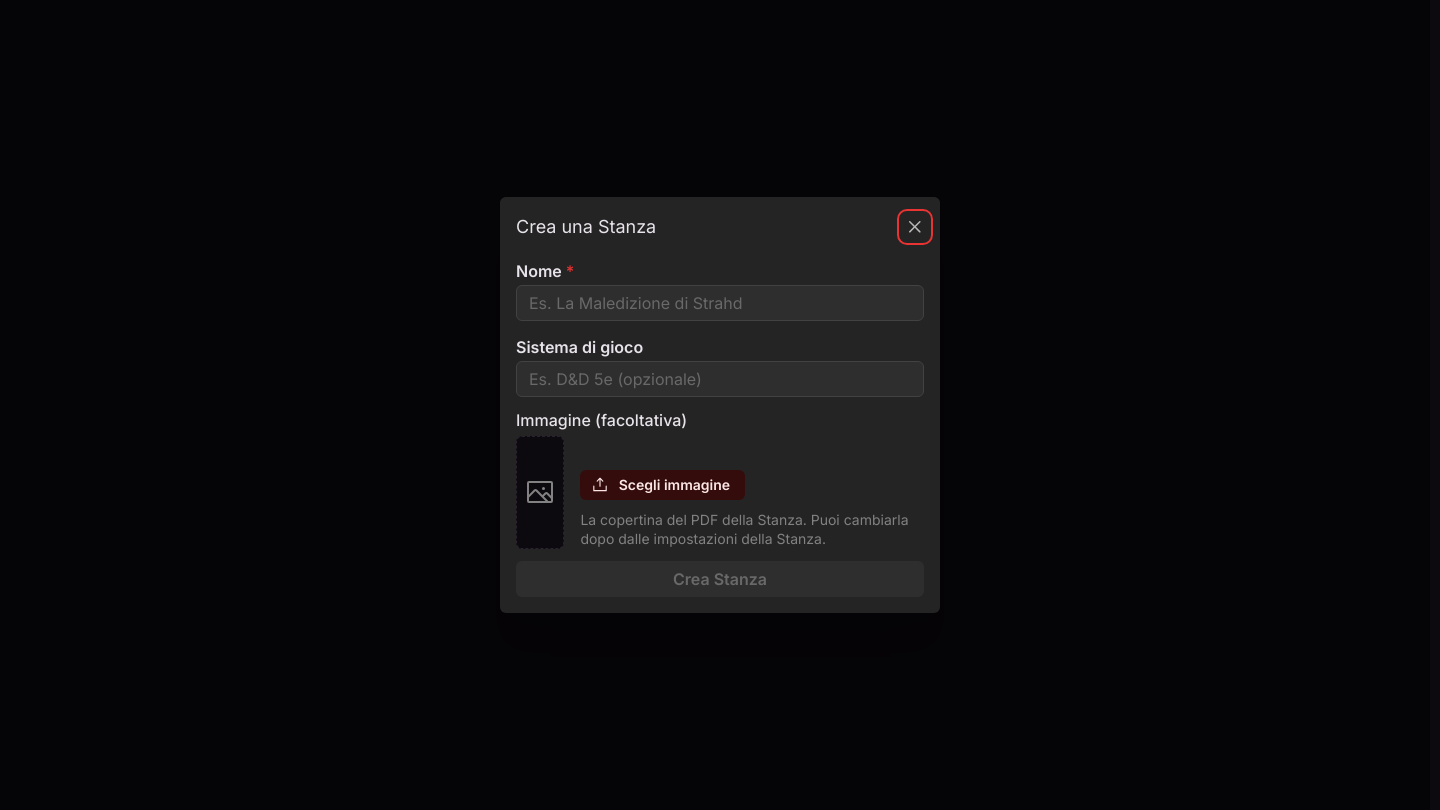
Test: CreateRoomModal › reports a failure and stays open
The width and height of the screenshot is (1440, 810).
Type "La Cripta" into the field labelled "Nome *". click: (720, 303)
box: [516, 285, 924, 321]
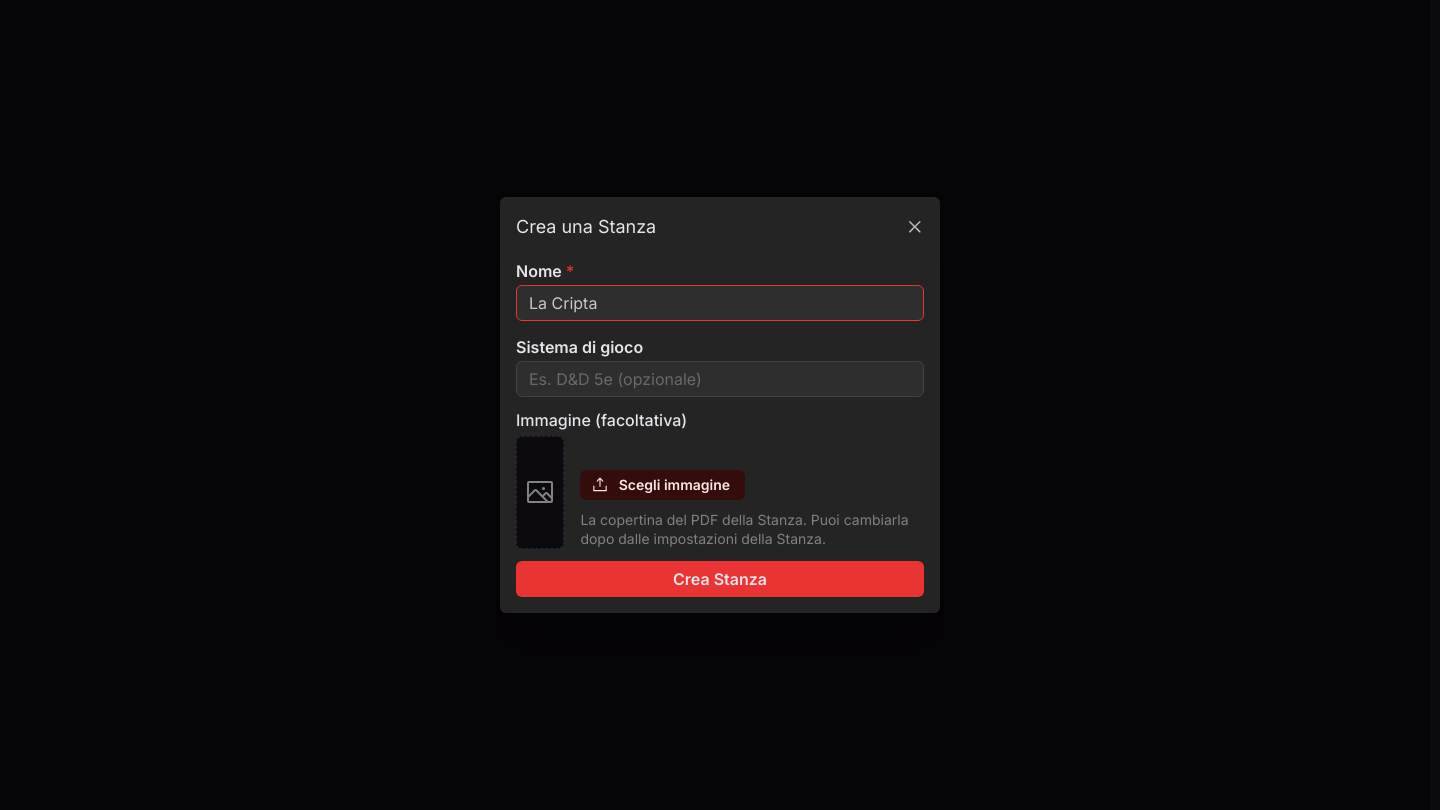
Click the button "Crea Stanza". click: (720, 579)
box: [516, 561, 924, 597]
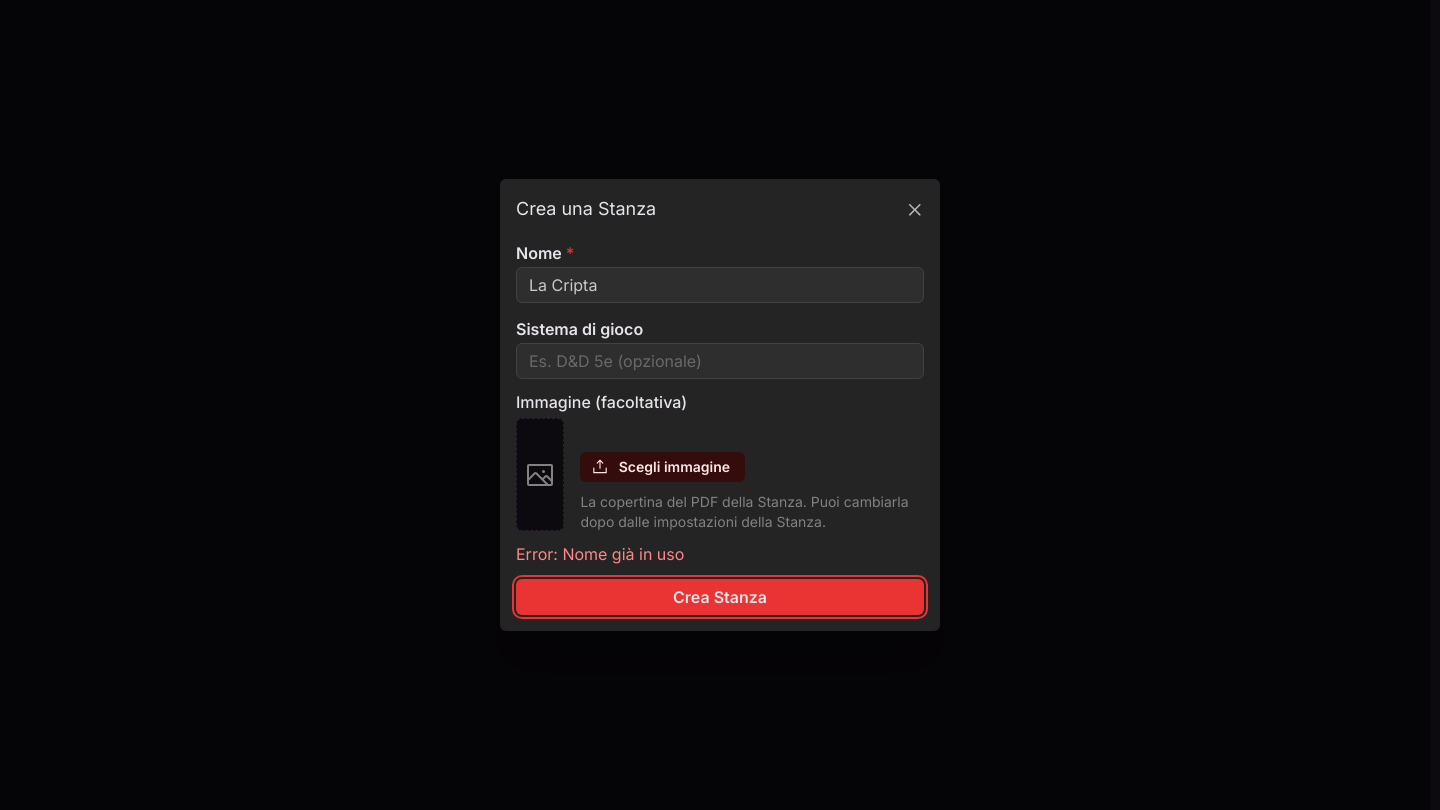
expect the text "Error: Nome già in uso" is shown: met, box [516, 544, 684, 564]
